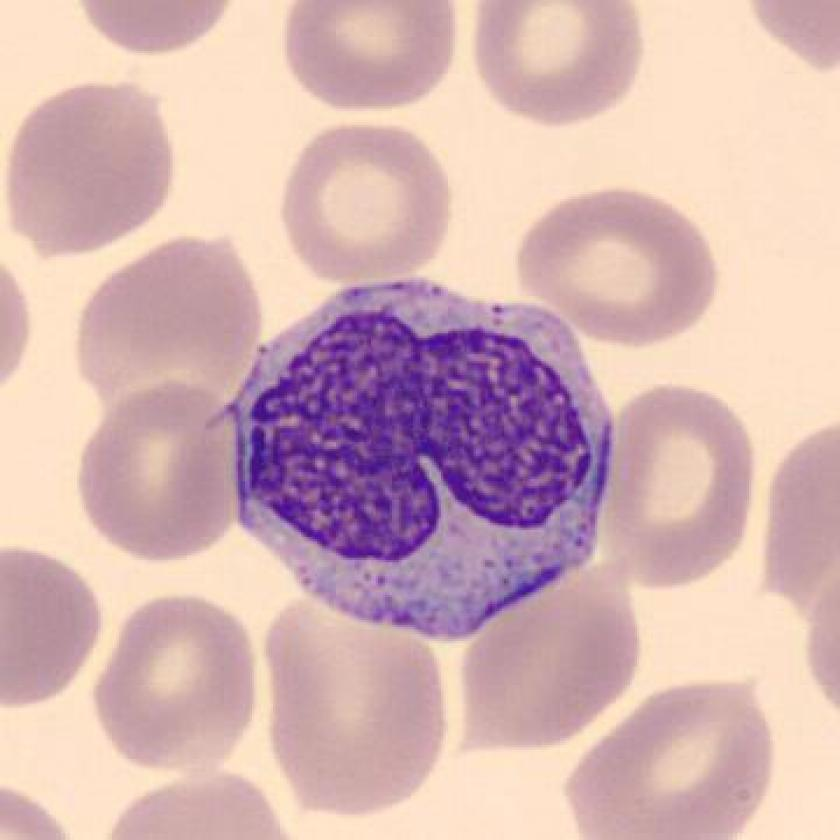monocyte: (211, 256, 638, 658)
